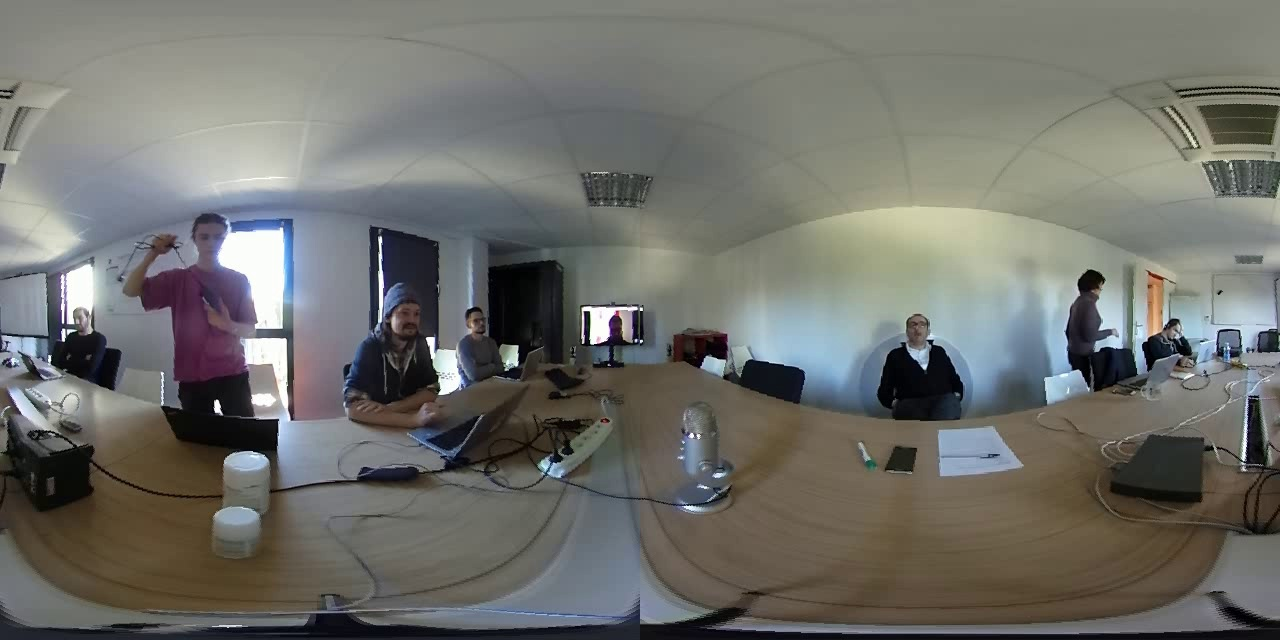person: (119, 200, 285, 382), (328, 267, 440, 409), (874, 303, 976, 427), (1059, 262, 1119, 373), (44, 298, 111, 385), (444, 301, 517, 377), (1146, 309, 1197, 368), (586, 301, 640, 346)
